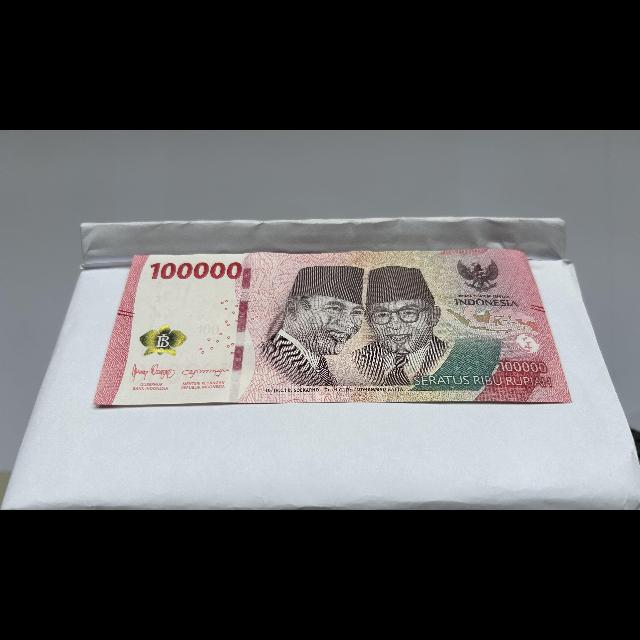Asli-100k: (88, 245, 577, 407)
Tinta-Asli-100k: (136, 322, 191, 357)
